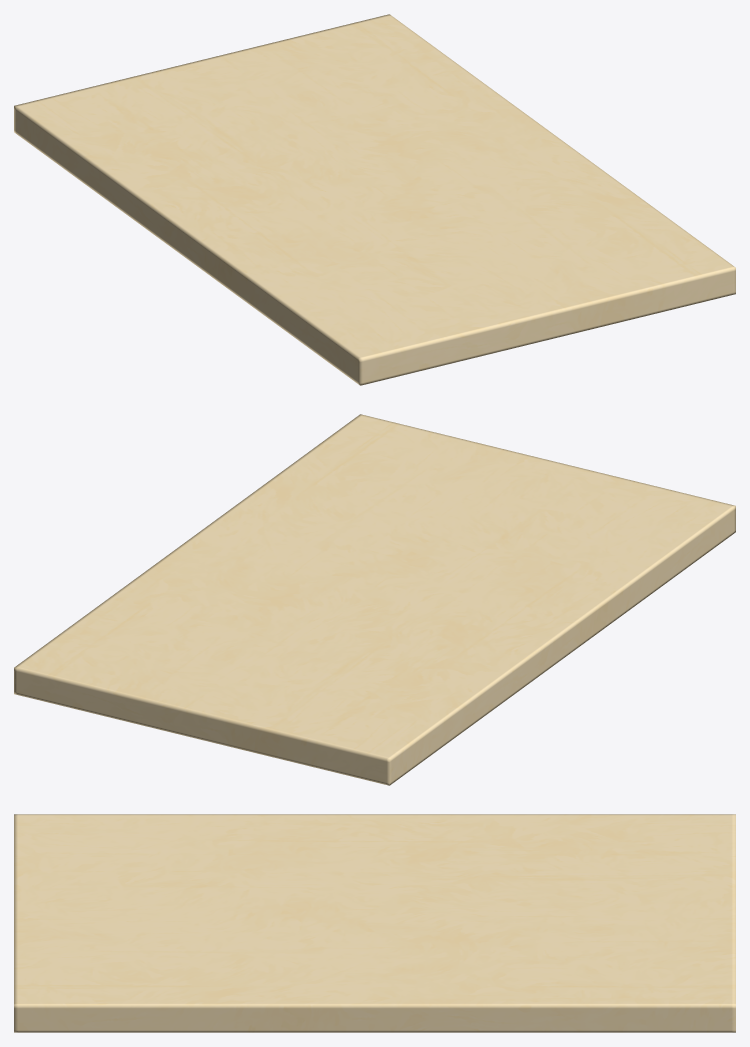
Rendered from Table_Flat.fbx.
The picture shows the model from 3 angles, top to bottom: view 1: azimuth 30°, elevation 25°; view 2: azimuth 150°, elevation 25°; view 3: azimuth 270°, elevation 25°; orthographic projection. The views are drawn at different scales.
Visible parts, largest first — view 1: Table; view 2: Table; view 3: Table.
Part boxes in pixels (x1,y1,x2,y2): Table: (14,14,735,385); Table: (14,414,735,785); Table: (14,814,735,1032).
Bounding box in the file's own units: 724 × 48.81 × 1157.
Materials: 1 (1 with a texture image).
